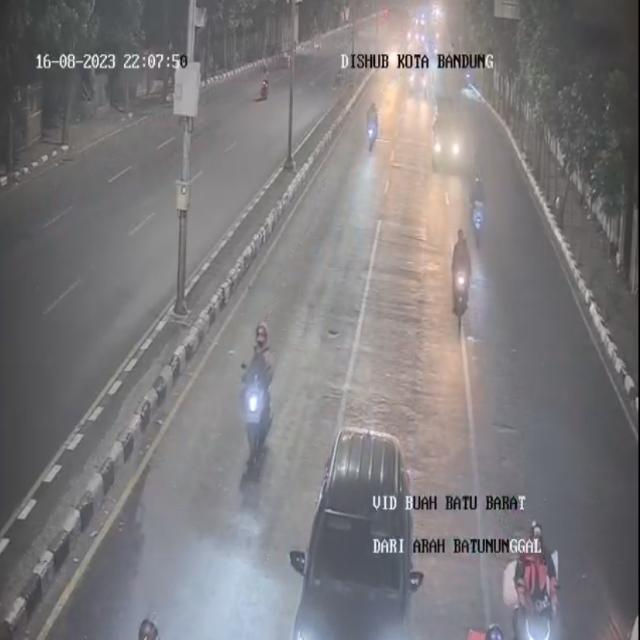cars: (296, 423, 416, 640), (432, 96, 464, 180)
motorcycle: (497, 519, 570, 640), (239, 321, 279, 470), (450, 228, 473, 336), (470, 163, 486, 247), (364, 99, 380, 153)
